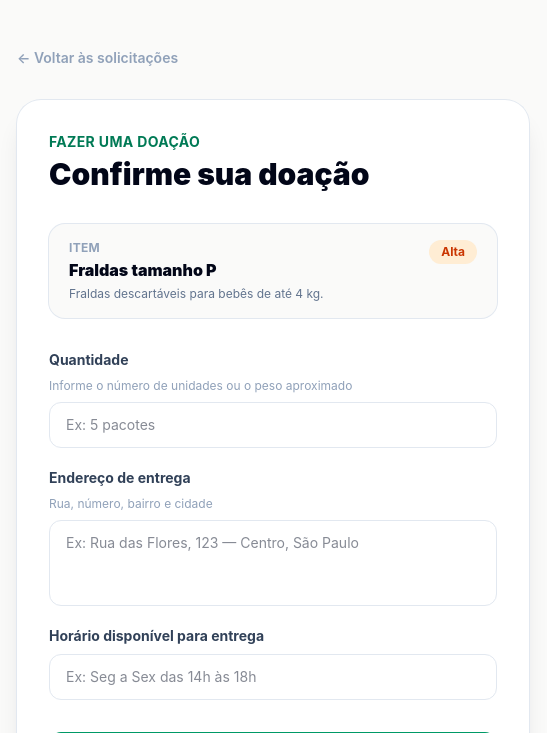
Test: DoarPage › Fluxo de envio › exibe "Enviando..." no botão durante o processamento
This screenshot has width=547, height=733.
In the number field with placeholder "Ex: 5 pacotes": (273, 425) [49,402,497,448], type "5"
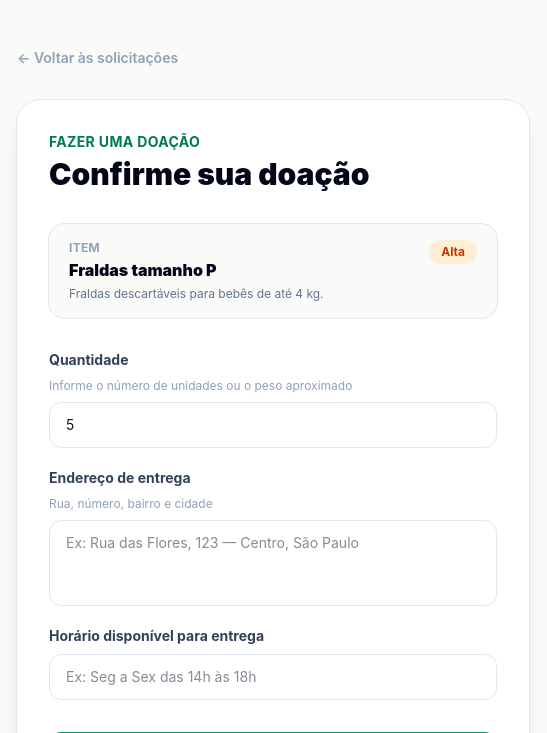
In the text box with placeholder "Ex: Rua das Flores, 123 — Centro, São Paulo": (273, 563) [49,520,497,606], type "Rua Teste, 123 — Centro, São Paulo"
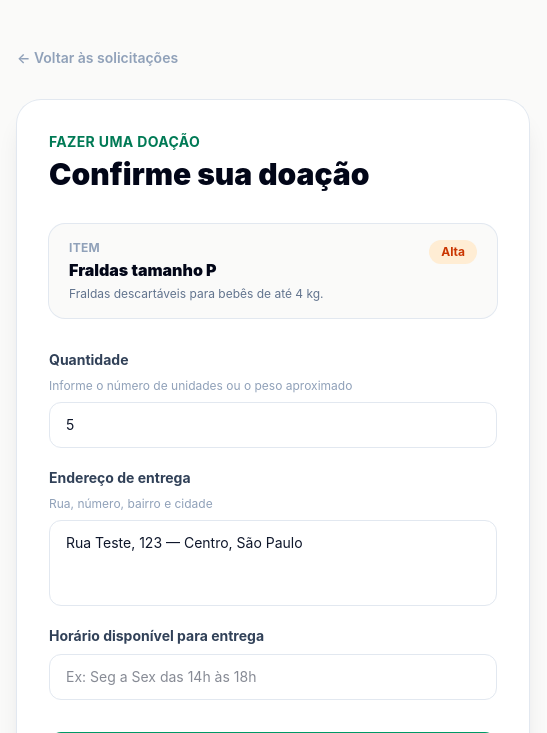
In the field with placeholder "Ex: Seg a Sex das 14h às 18h": (273, 677) [49,654,497,700], type "Seg a Sex das 9h às 18h"
(page scrolled)
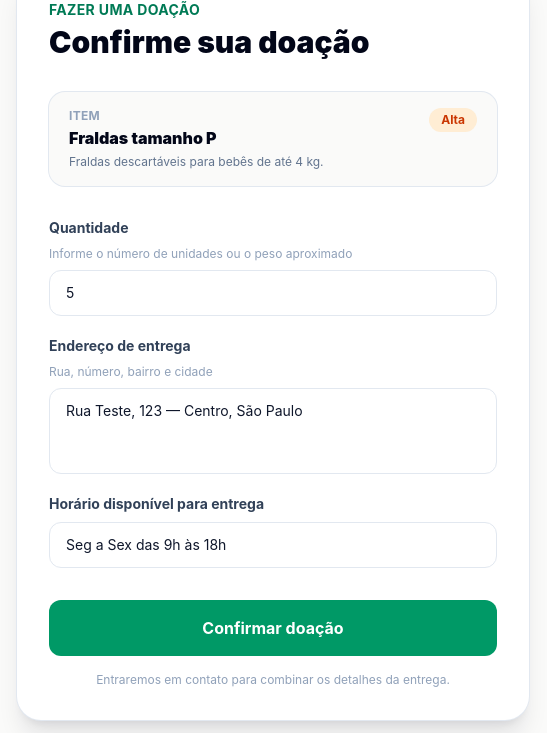
Click the button "Confirmar doação": (273, 628) [49,600,497,656]
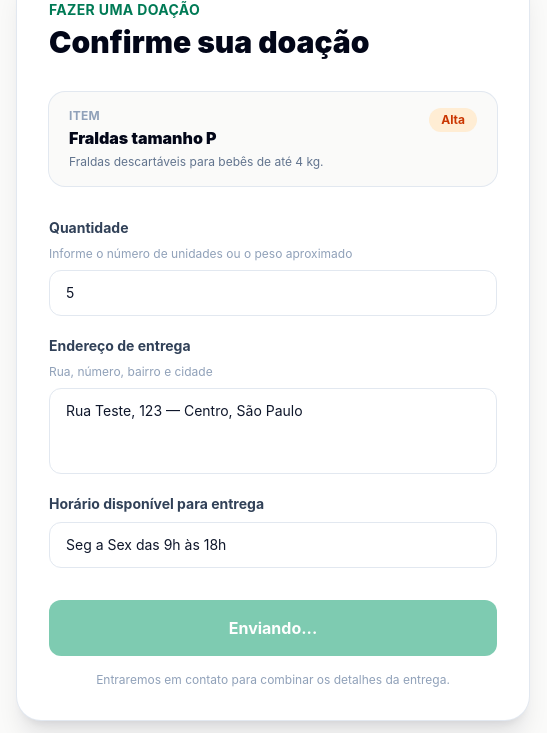
Result: the button "Enviando..." is shown at [49,600,497,656]
